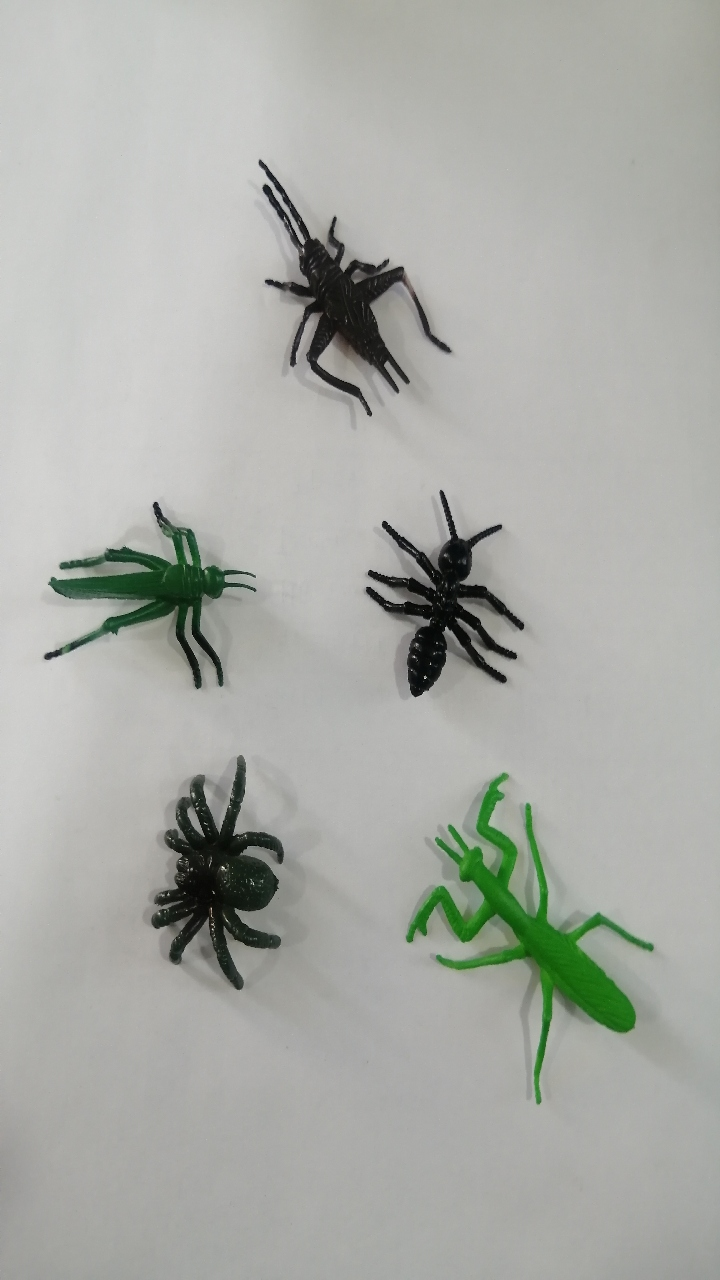intruso: (358, 745, 684, 1139), (229, 134, 474, 446), (123, 709, 315, 1039), (35, 483, 271, 719), (354, 469, 548, 731)
